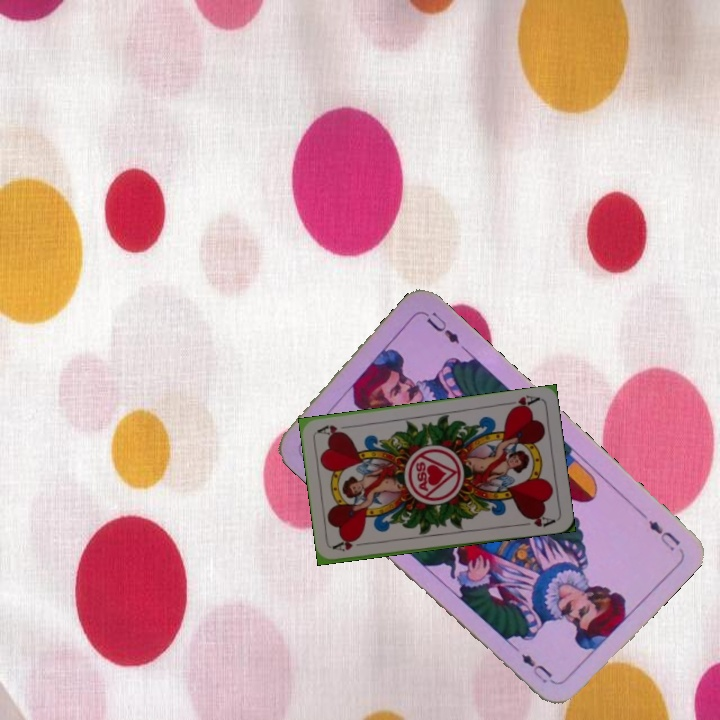EU: (644, 515, 683, 554)
HA: (501, 391, 542, 413), (330, 536, 371, 554)
